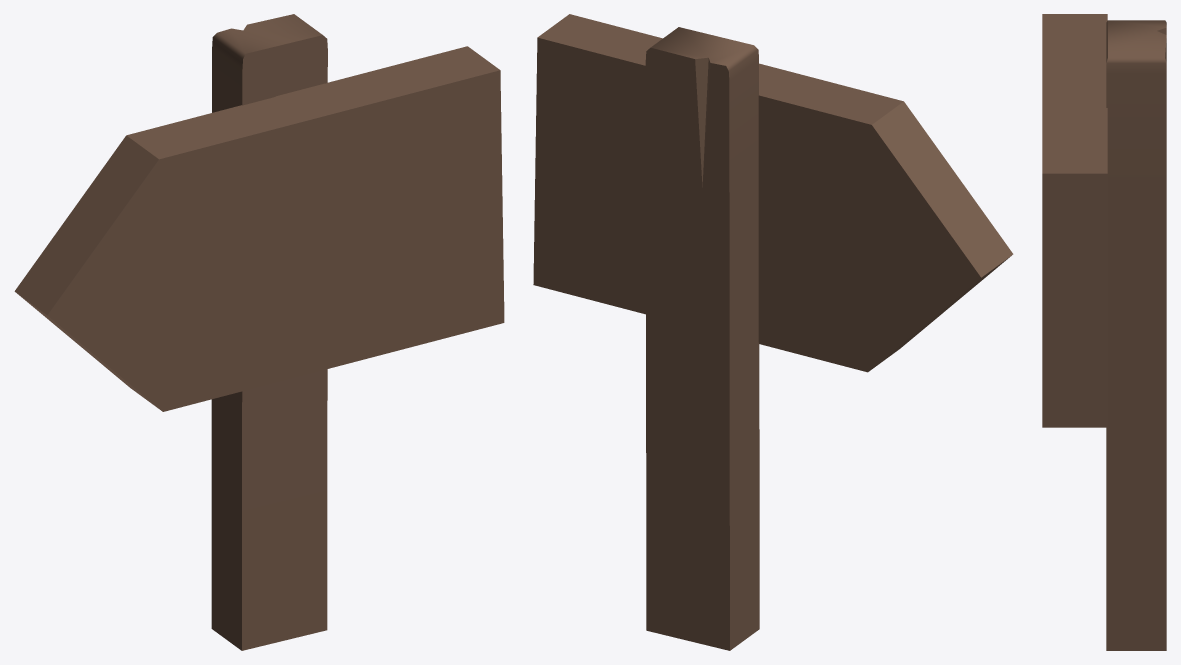
Rendered from sign_direction_small_flipped.fbx.
3 renders of one model, left to right at view 1: azimuth 30°, elevation 25°; view 2: azimuth 150°, elevation 25°; view 3: azimuth 270°, elevation 25°, orthographic. The views are drawn at different scales.
Parts seen in each view (by area): view 1: sign_directional_small; view 2: sign_directional_small; view 3: sign_directional_small.
Boxes of the visible parts, box(x1,y1,x2,y2) form: sign_directional_small: box(14, 14, 504, 650); sign_directional_small: box(533, 14, 1013, 650); sign_directional_small: box(1042, 14, 1166, 650).
Bounding box in the file's own units: 80.34 × 100 × 19.06.
